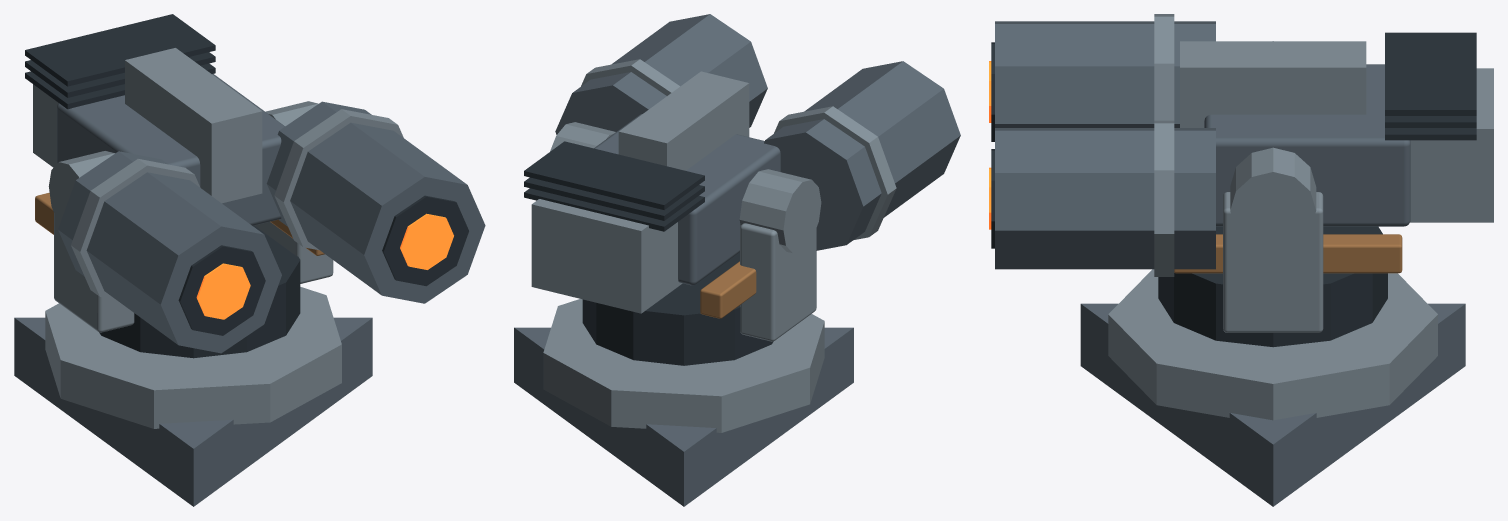
Rendered from kiln_t1_d0.glb.
The picture shows the model from 3 angles, left to right: view 1: azimuth 30°, elevation 25°; view 2: azimuth 150°, elevation 25°; view 3: azimuth 270°, elevation 25°; orthographic projection. The views are drawn at different scales.
Visible parts, largest first — view 1: RECOIL_ARMOR_GEOMETRY, BASE_ARMOR_GEOMETRY, YAW_ARMOR_GEOMETRY, RECOIL_SIGNAL_GEOMETRY; view 2: RECOIL_ARMOR_GEOMETRY, BASE_ARMOR_GEOMETRY, YAW_ARMOR_GEOMETRY; view 3: RECOIL_ARMOR_GEOMETRY, BASE_ARMOR_GEOMETRY, YAW_ARMOR_GEOMETRY.
Boxes of the visible parts, x1=… form: RECOIL_ARMOR_GEOMETRY: x1=25, y1=14, x2=485, y2=353; BASE_ARMOR_GEOMETRY: x1=14, y1=287, x2=372, y2=506; YAW_ARMOR_GEOMETRY: x1=54, y1=213, x2=333, y2=358; RECOIL_SIGNAL_GEOMETRY: x1=196, y1=213, x2=453, y2=319; RECOIL_ARMOR_GEOMETRY: x1=524, y1=14, x2=960, y2=318; BASE_ARMOR_GEOMETRY: x1=514, y1=299, x2=853, y2=506; YAW_ARMOR_GEOMETRY: x1=582, y1=223, x2=816, y2=365; RECOIL_ARMOR_GEOMETRY: x1=991, y1=14, x2=1493, y2=276; BASE_ARMOR_GEOMETRY: x1=1080, y1=269, x2=1465, y2=506; YAW_ARMOR_GEOMETRY: x1=1158, y1=192, x2=1387, y2=347.
Size of the model in its own units: 1.5 by 1.38 by 1.76.
